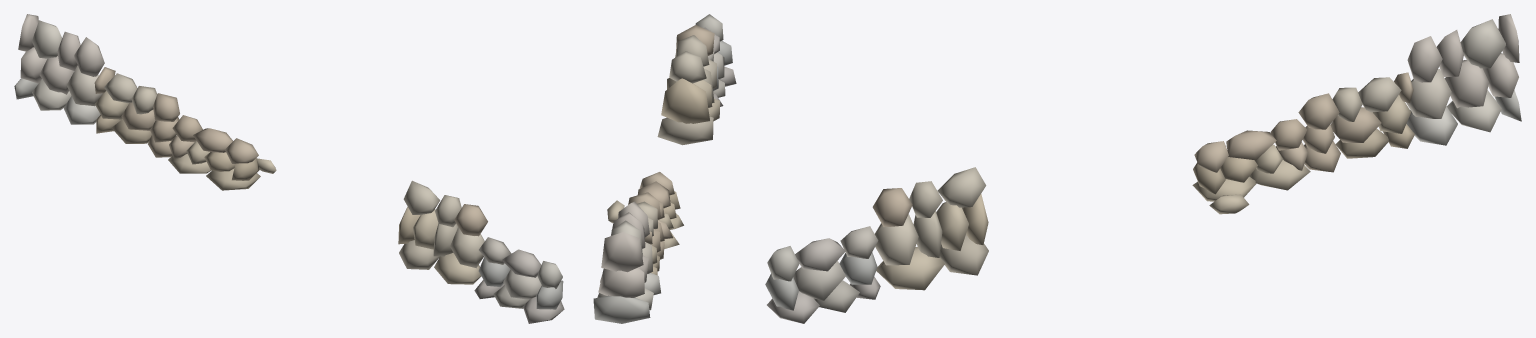
The model's file is farm_-5_6_near.glb.
3 views of the same model, side by side, from view 1: azimuth 30°, elevation 25°; view 2: azimuth 150°, elevation 25°; view 3: azimuth 270°, elevation 25° (orthographic). The views are drawn at different scales.
Visible parts, largest first — view 1: geometry_0; view 2: geometry_0; view 3: geometry_0.
Part boxes in pixels (x1=…): geometry_0: x1=14, y1=14, x2=564, y2=323; geometry_0: x1=593, y1=14, x2=736, y2=323; geometry_0: x1=765, y1=14, x2=1521, y2=323.
Size of the model in its own units: 4.48 by 2.35 by 9.38.
